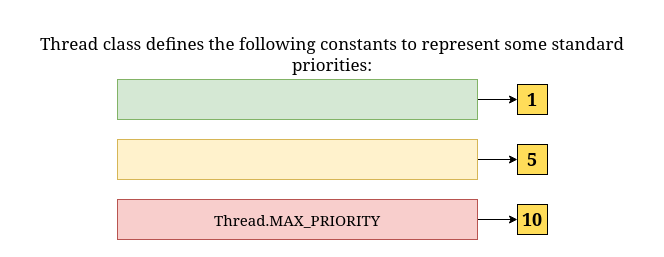
This 664x257 diagram has some shape labels left out. The box of each missing label's shape, as (x1, y1, x2, y2) in pixels:
Thread.MIN_PRIORITY: (116, 78, 478, 120)
Thread.NORM_PRIORITY: (116, 138, 478, 180)
